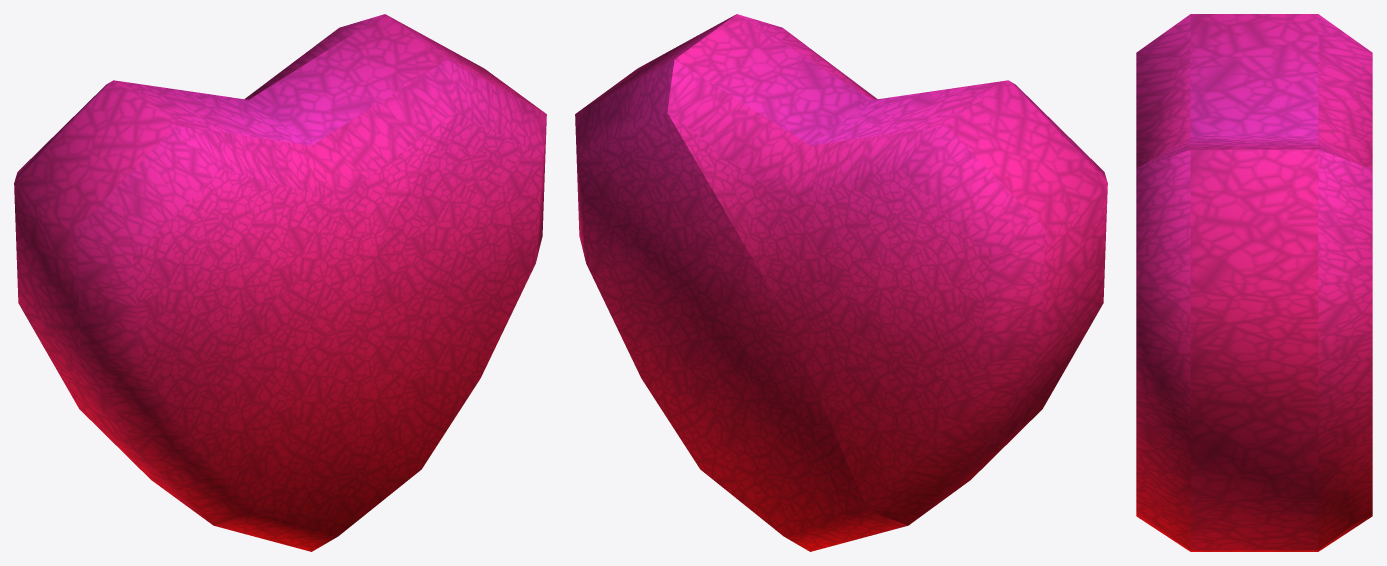
Rendered from candy5_cut.FBX.
The picture shows the model from 3 angles, left to right: view 1: azimuth 30°, elevation 25°; view 2: azimuth 150°, elevation 25°; view 3: azimuth 270°, elevation 25°; orthographic projection. The views are drawn at different scales.
Parts seen in each view (by area): view 1: pary1, part2; view 2: pary1, part2; view 3: part2, pary1.
Boxes of the visible parts, x1,y1,x2,y2 form: pary1: (14, 14, 454, 525); part2: (214, 15, 546, 551); pary1: (667, 14, 1107, 525); part2: (575, 15, 907, 551); part2: (1136, 149, 1372, 551); pary1: (1136, 14, 1372, 168).
Bounding box in the file's own units: 19.64 × 18.31 × 8.35.
